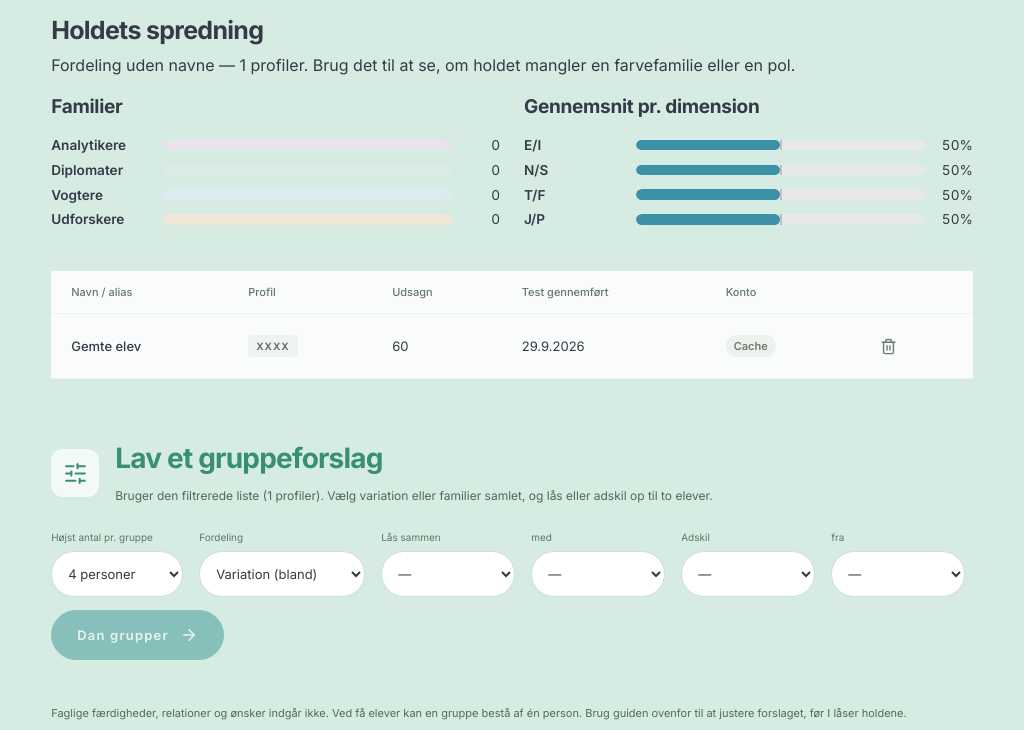
en gemt elevprofil åbner den fulde læseguide fra samlingen
This screenshot has width=1024, height=730.
(page scrolled)
What coordinates should you click on to do the following:
click the button "Gemte elev"
I would click on:
 (106, 346)
Its box is [71, 333, 141, 359].
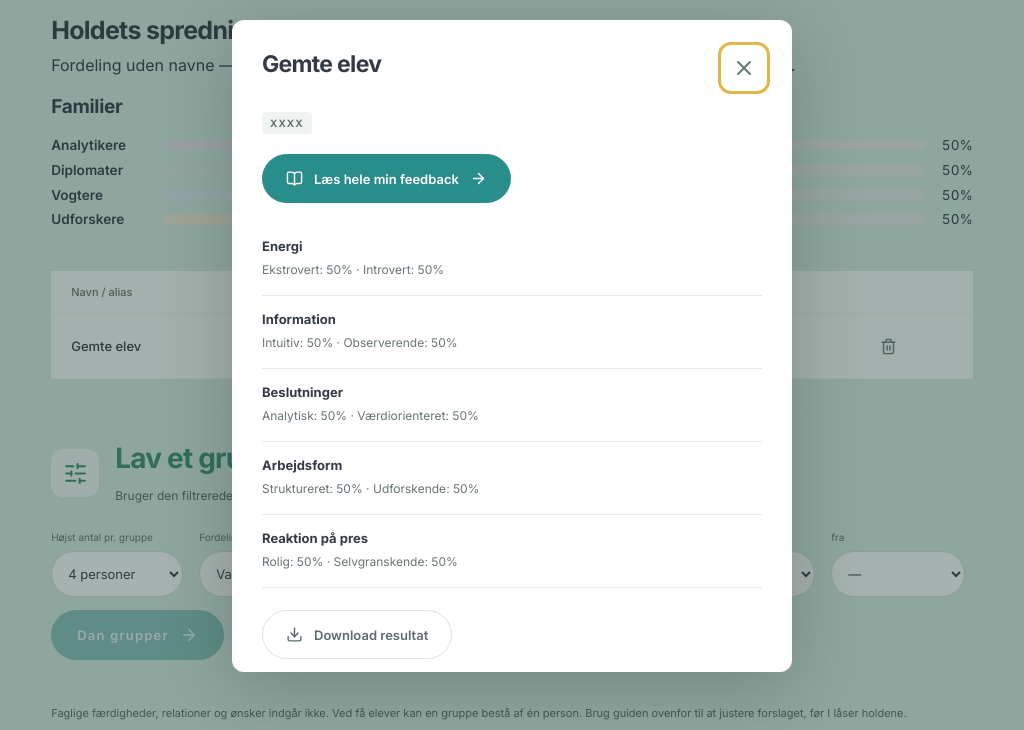
What coordinates should you click on to do the following:
click the button "Læs hele min feedback"
I would click on:
 (386, 179)
Its box is [262, 154, 511, 204].
(page scrolled)
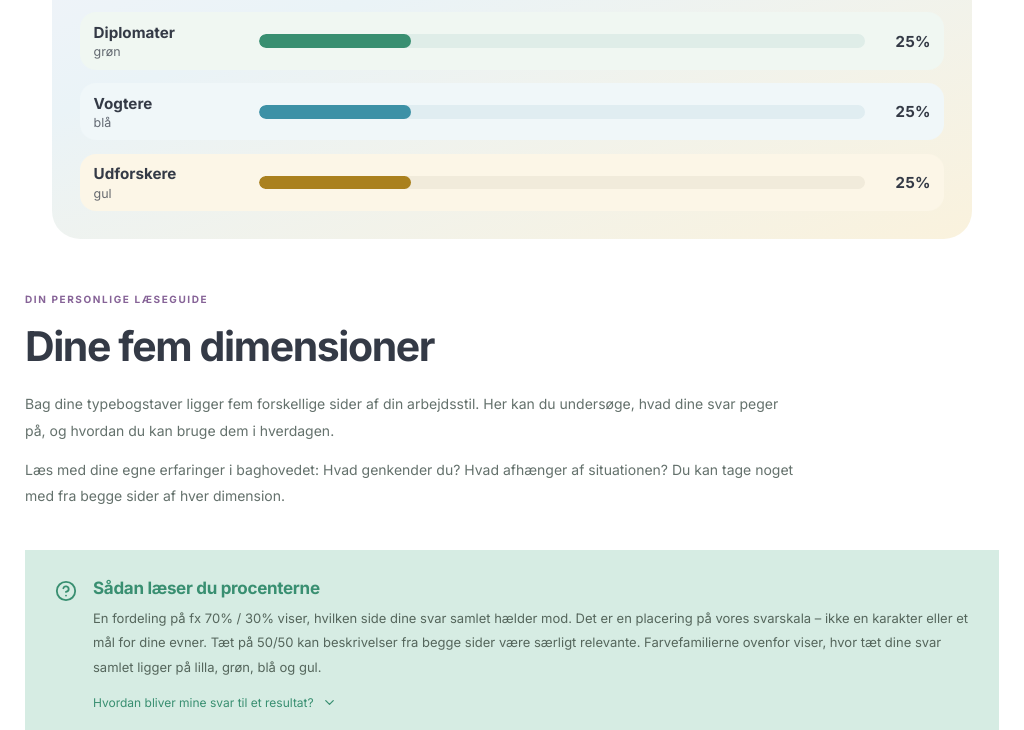
Result: the heading "Dine fem dimensioner" is shown at [25, 321, 434, 371]
